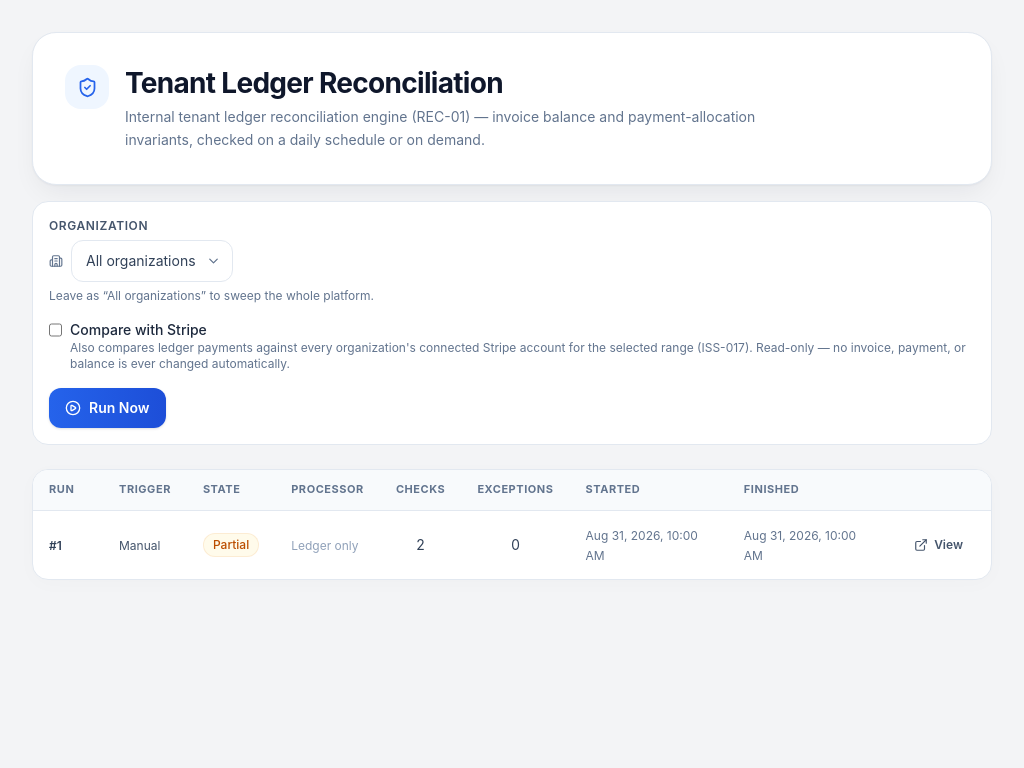
Test: rejects a start date after the end date and disables the Run button
This screenshot has width=1024, height=768.
Expected: the button "Run Now" is shown, 49,388 -> 166,428
Step 1. Click the checkbox labelled "Compare with Stripe" → x=56, y=330, box 49,322 -> 62,338
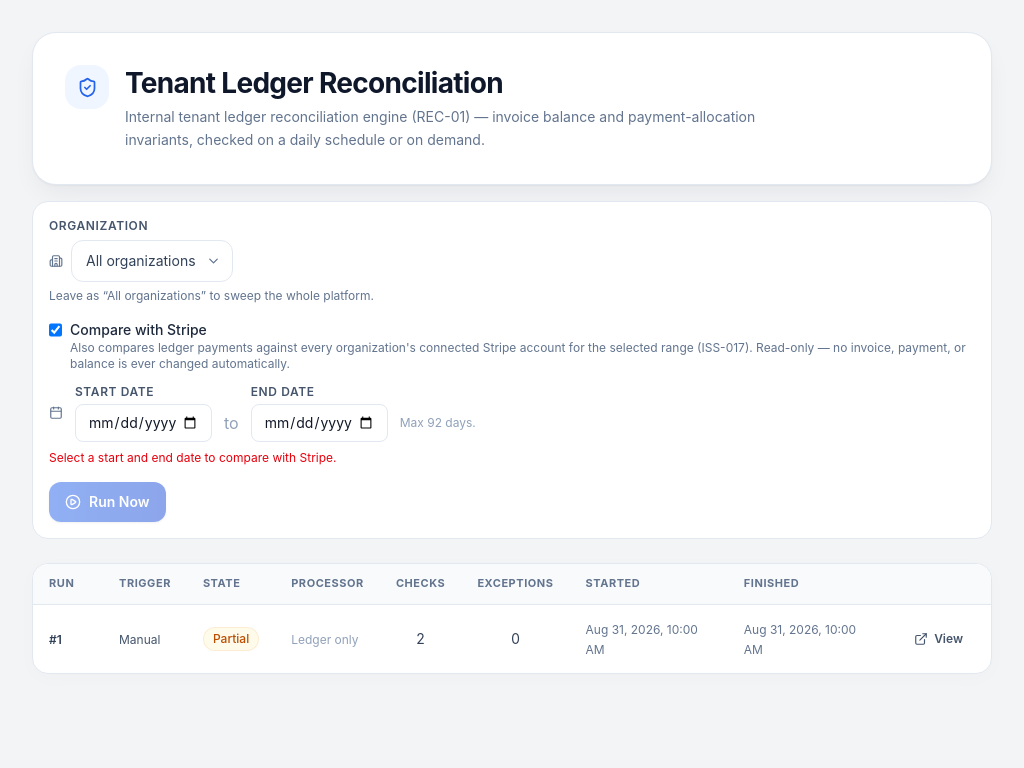
Step 2. Type "2026-08-20" into the date field labelled "Start date" → x=144, y=423, box 75,404 -> 212,442
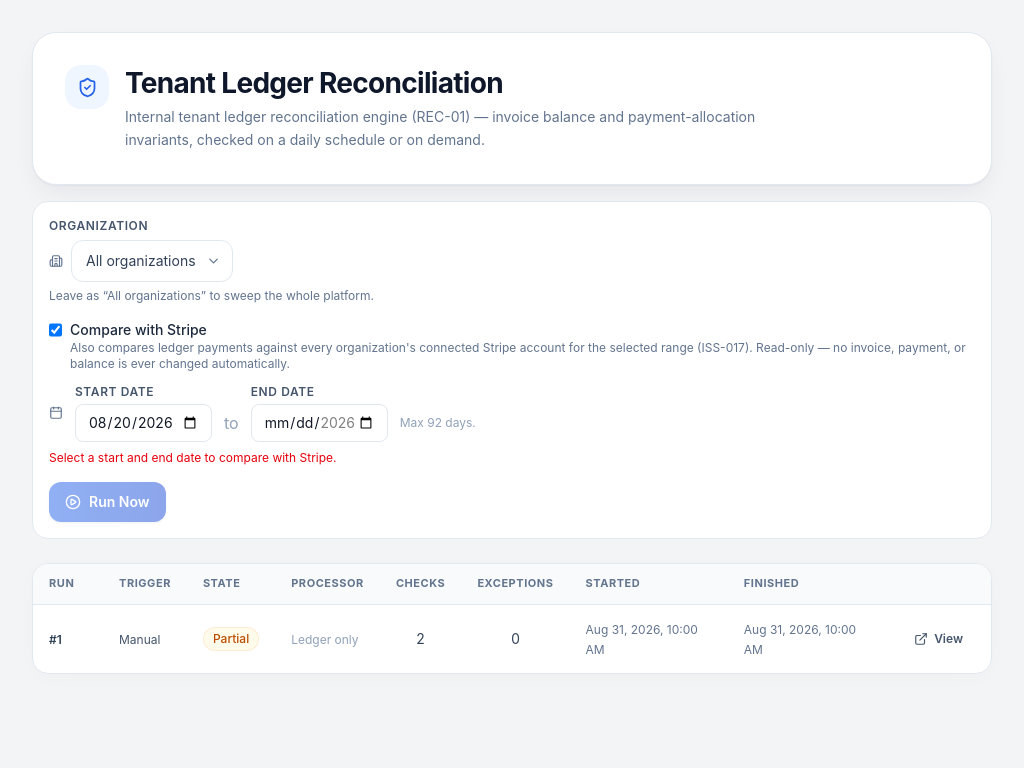
Step 3. Type "2026-08-10" into the date field labelled "End date" → x=319, y=423, box 251,404 -> 388,442
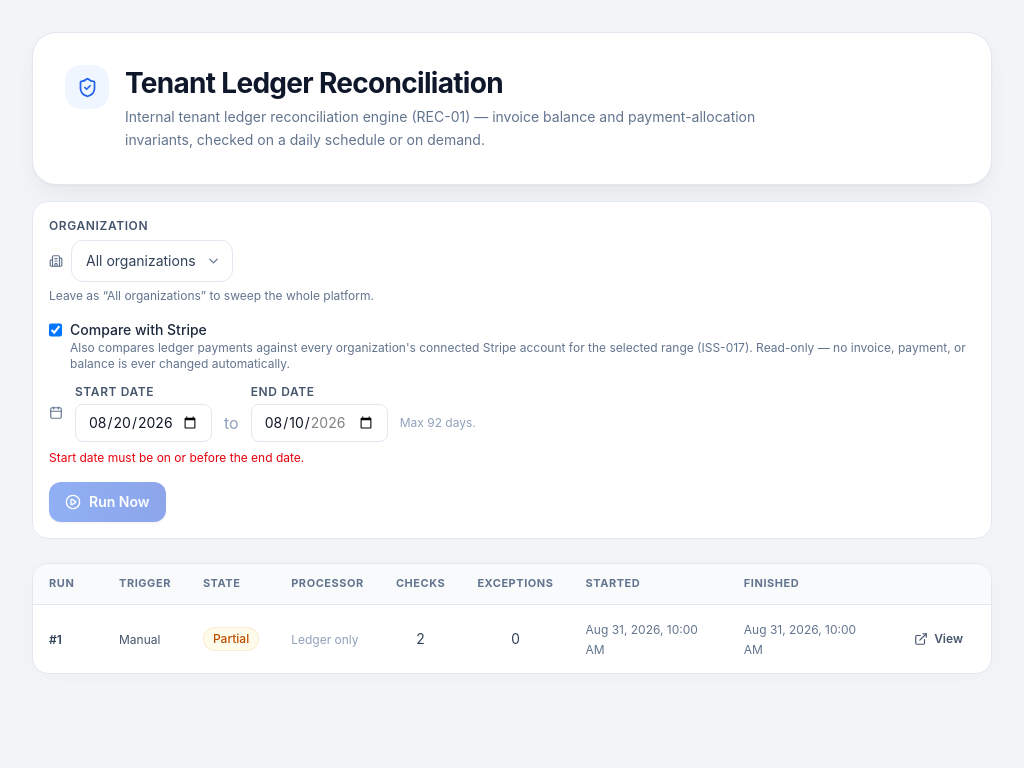
Expected: the button "Run Now" is disabled, 49,482 -> 166,522
Expected: the text "Start date must be on or before the end date." is shown, 49,450 -> 304,465
